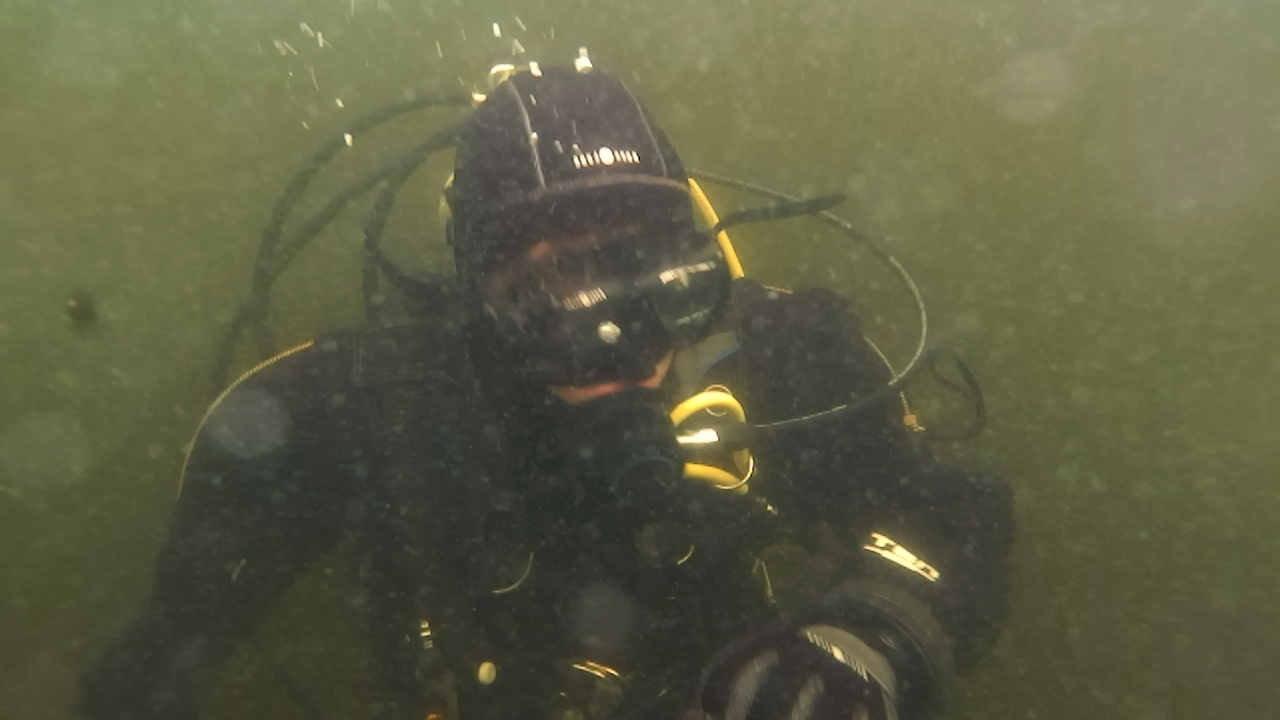Diver: (106, 2, 1108, 690)
Head: (418, 18, 774, 436)
